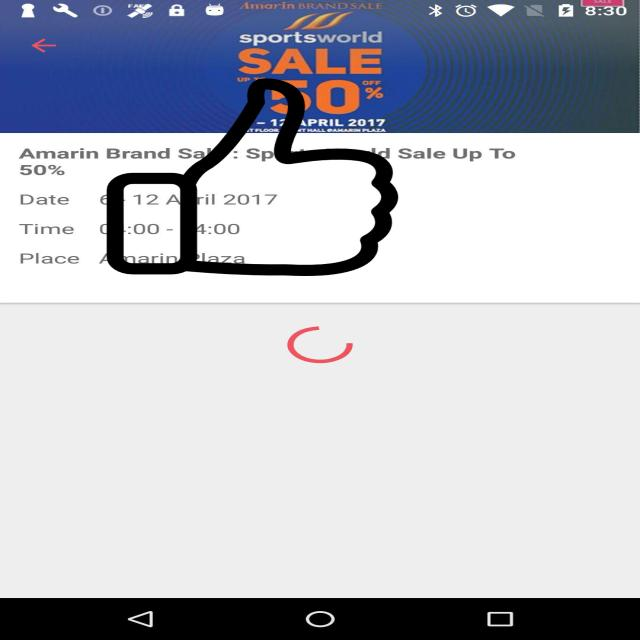privacy zuckering: (102, 78, 402, 276)
